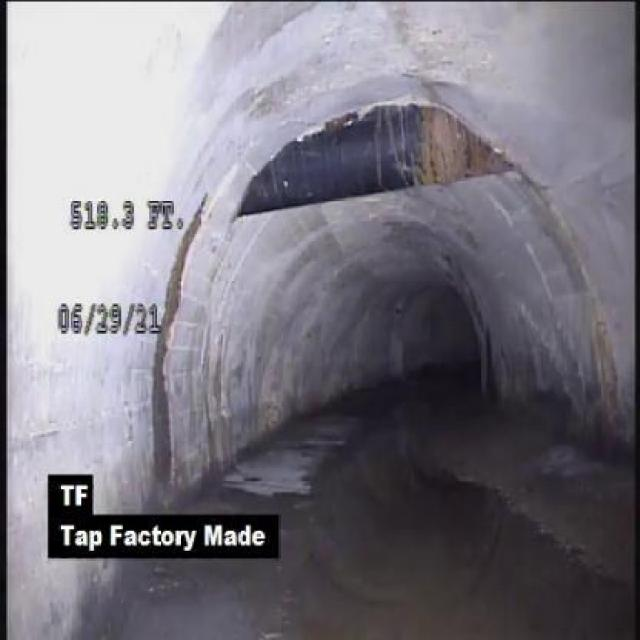Utility intrusion: (226, 96, 519, 222)
